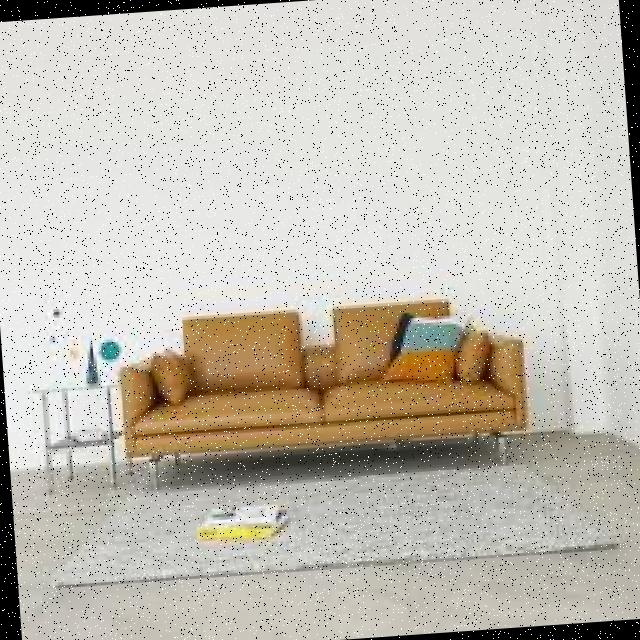Sofa: (105, 243, 561, 517)
